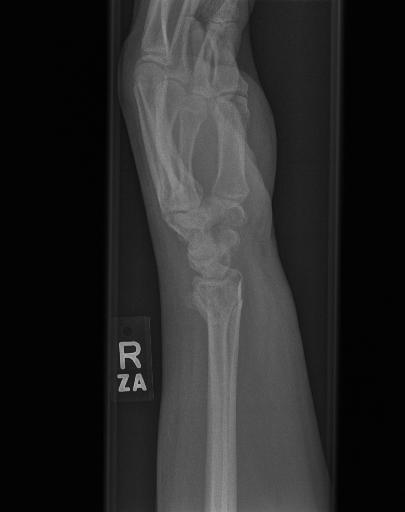fractured: (194, 287, 260, 344)
